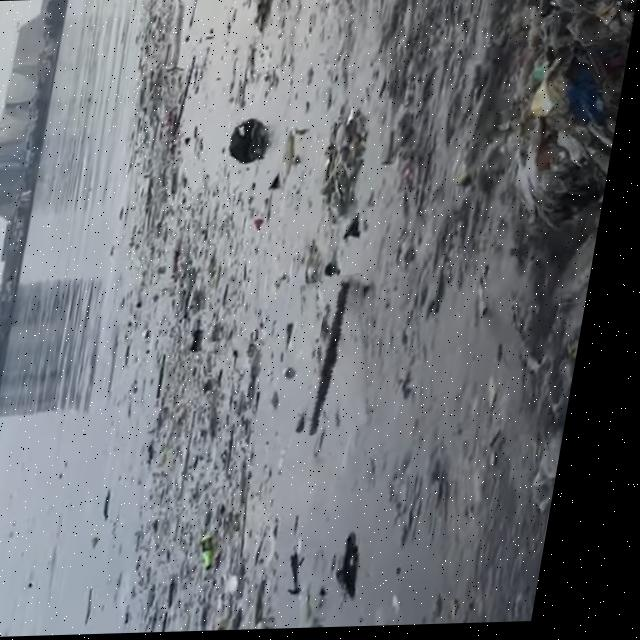plasticcover: (230, 109, 288, 166)
wood: (321, 277, 371, 434)
